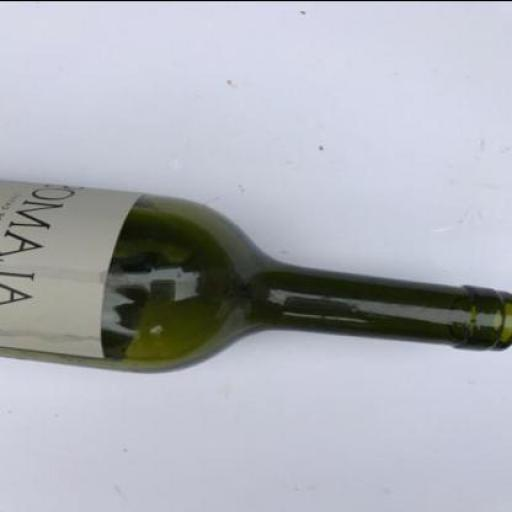glass: (0, 177, 511, 371)
